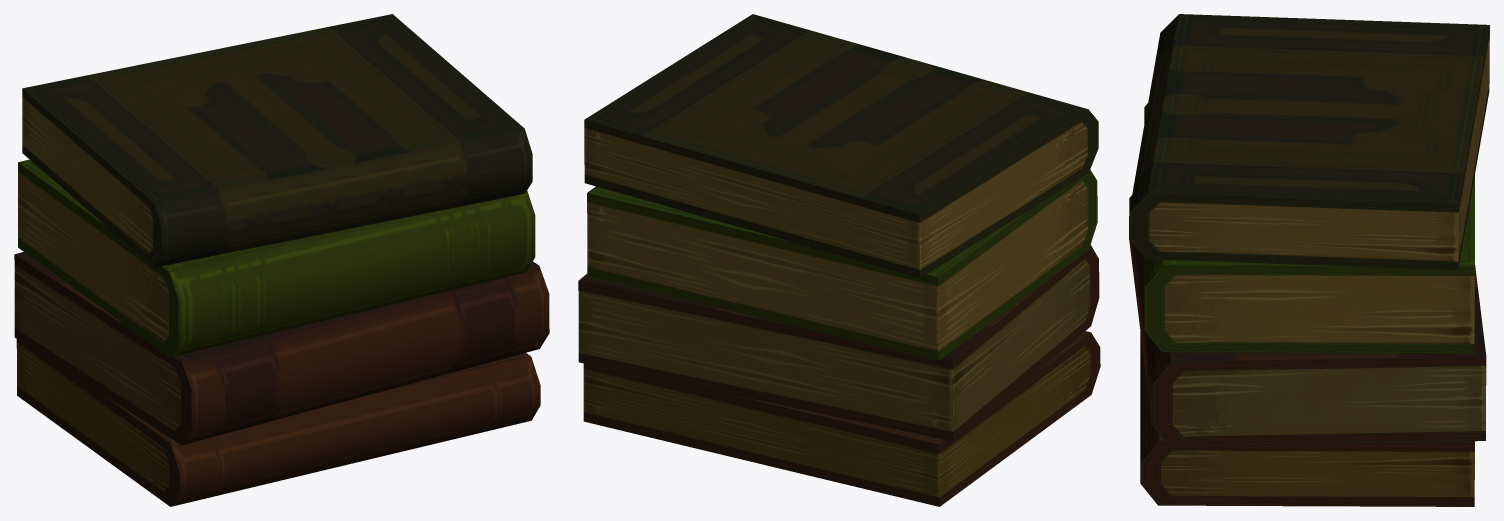
Rendered from Book_Stack_1.gltf.
The picture shows the model from 3 angles, left to right: view 1: azimuth 30°, elevation 25°; view 2: azimuth 150°, elevation 25°; view 3: azimuth 270°, elevation 25°; orthographic projection. The views are drawn at different scales.
Visible parts, largest first — view 1: Book_Stack_1; view 2: Book_Stack_1; view 3: Book_Stack_1.
Boxes of the visible parts, x1,y1,x2,y2 form: Book_Stack_1: (14,14,549,506); Book_Stack_1: (578,14,1100,506); Book_Stack_1: (1129,14,1489,506).
Size of the model in its own units: 0.2849 by 0.2137 by 0.2263.
1 material, 1 textured.
